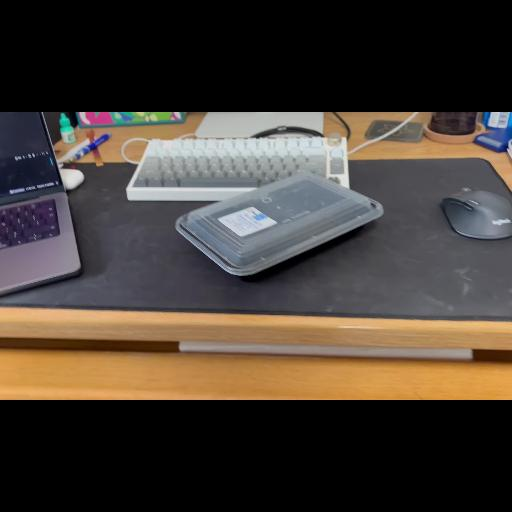rigid_plastic_container: (170, 168, 392, 282)
